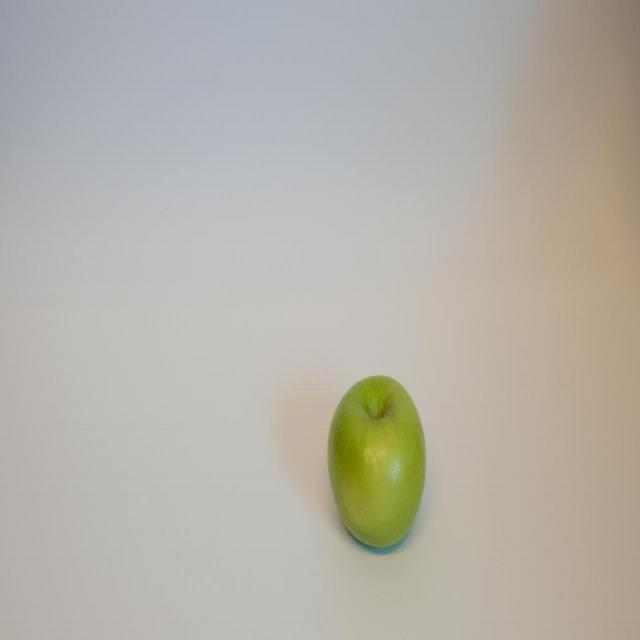apple: (322, 371, 429, 557)
